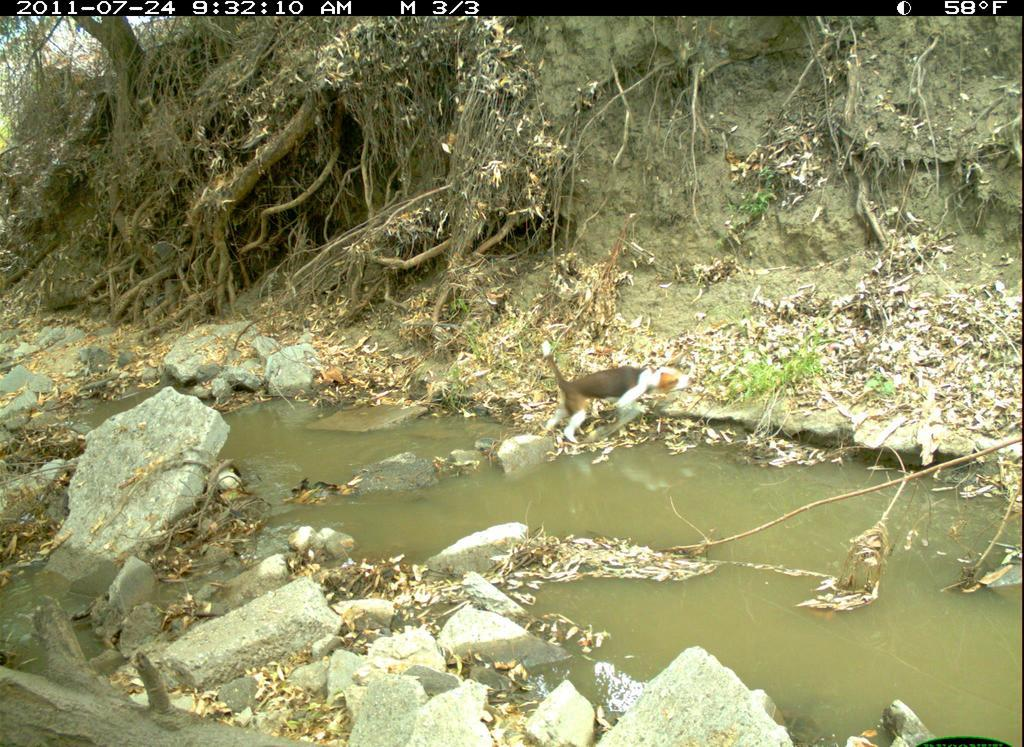dog: (536, 323, 701, 464)
